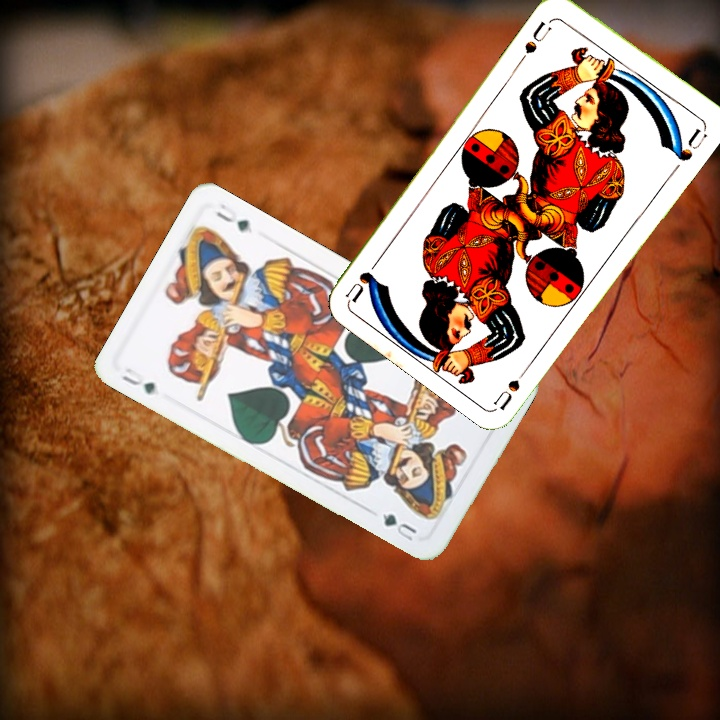GU: (117, 371, 158, 397)
SU: (490, 358, 535, 412), (520, 17, 555, 57)
